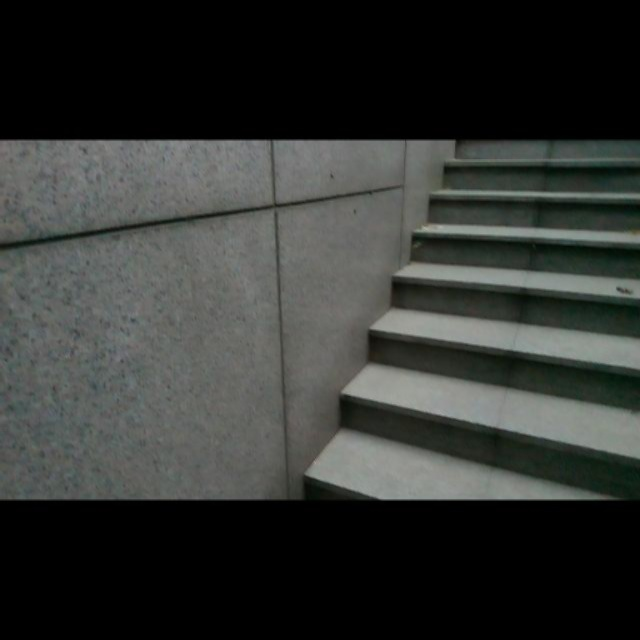stair: (384, 148, 640, 482)
